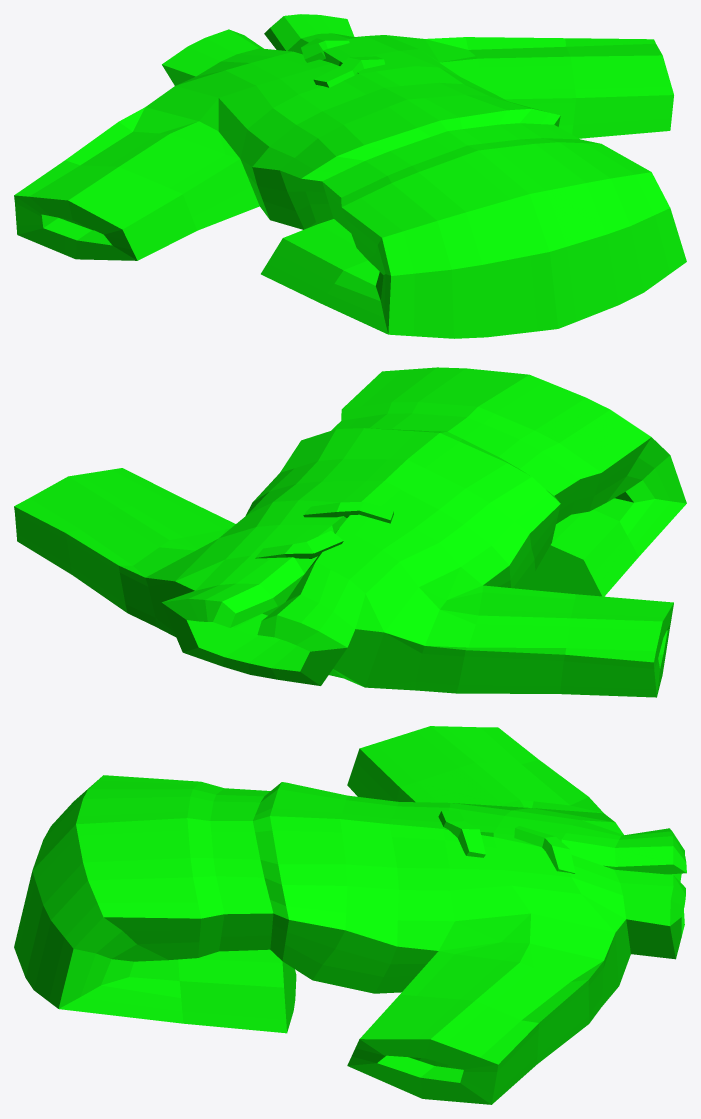
Rendered from SM_Armor_Gambeson_A_Placed_Fantasy.fbx.
The picture shows the model from 3 angles, top to bottom: view 1: azimuth 30°, elevation 25°; view 2: azimuth 150°, elevation 25°; view 3: azimuth 270°, elevation 25°; orthographic projection. The views are drawn at different scales.
Parts seen in each view (by area): view 1: armor-gambeson-a-placed-fantasy; view 2: armor-gambeson-a-placed-fantasy; view 3: armor-gambeson-a-placed-fantasy.
Part boxes in pixels (bbox=[...]): armor-gambeson-a-placed-fantasy: bbox=[14, 14, 686, 338]; armor-gambeson-a-placed-fantasy: bbox=[14, 367, 686, 697]; armor-gambeson-a-placed-fantasy: bbox=[14, 726, 686, 1104].
Bounding box in the file's own units: 0.8092 × 0.1614 × 0.6826.
